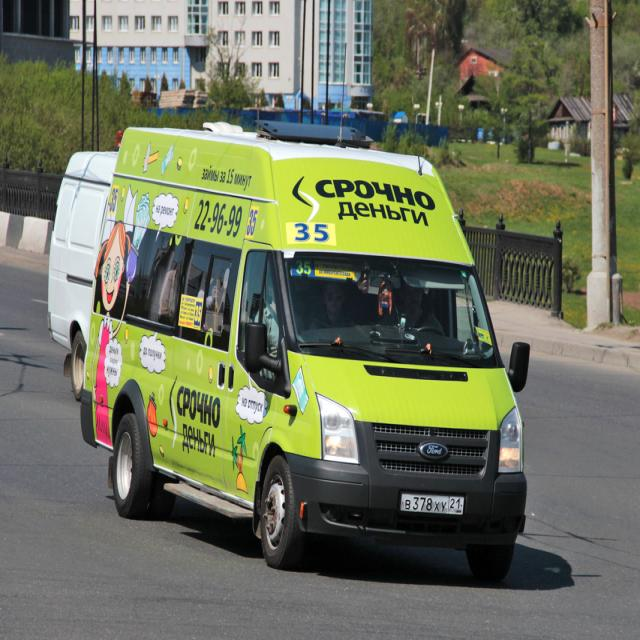number-of-bus: (291, 220, 335, 252)
